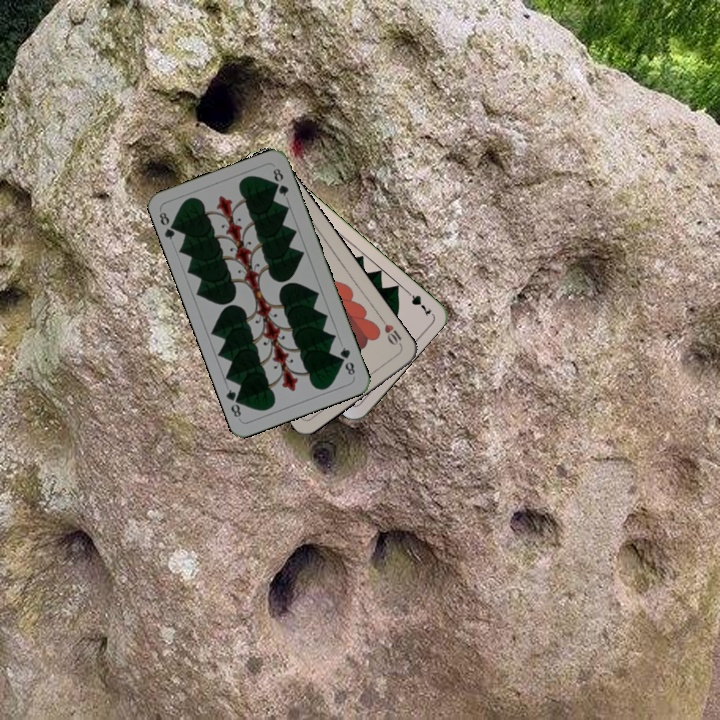G7: (401, 285, 435, 318)
G8: (155, 206, 181, 242), (336, 343, 358, 378)
H10: (377, 314, 405, 350)
